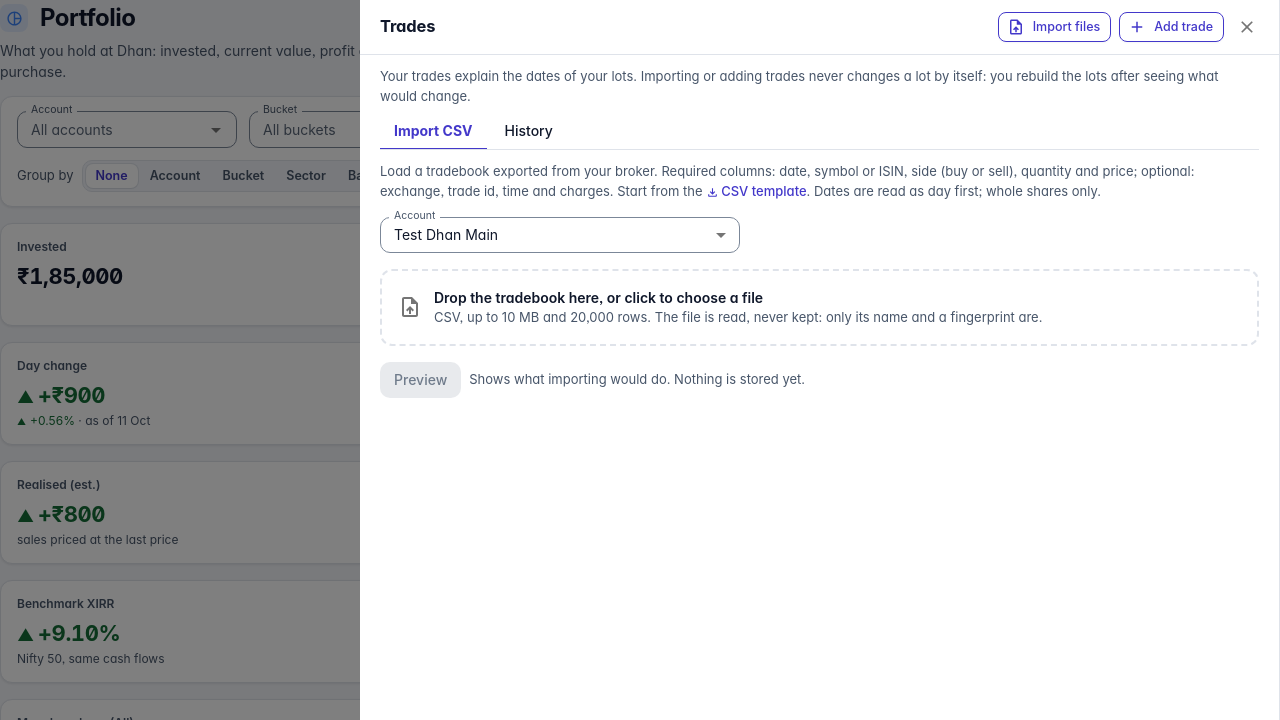
Test case: Add trade: the form › offers the account, the security, the side, the date, the time, the quantity, the price and the charges
Click the button "Add trade" at (1172, 27), box [1119, 12, 1224, 42]
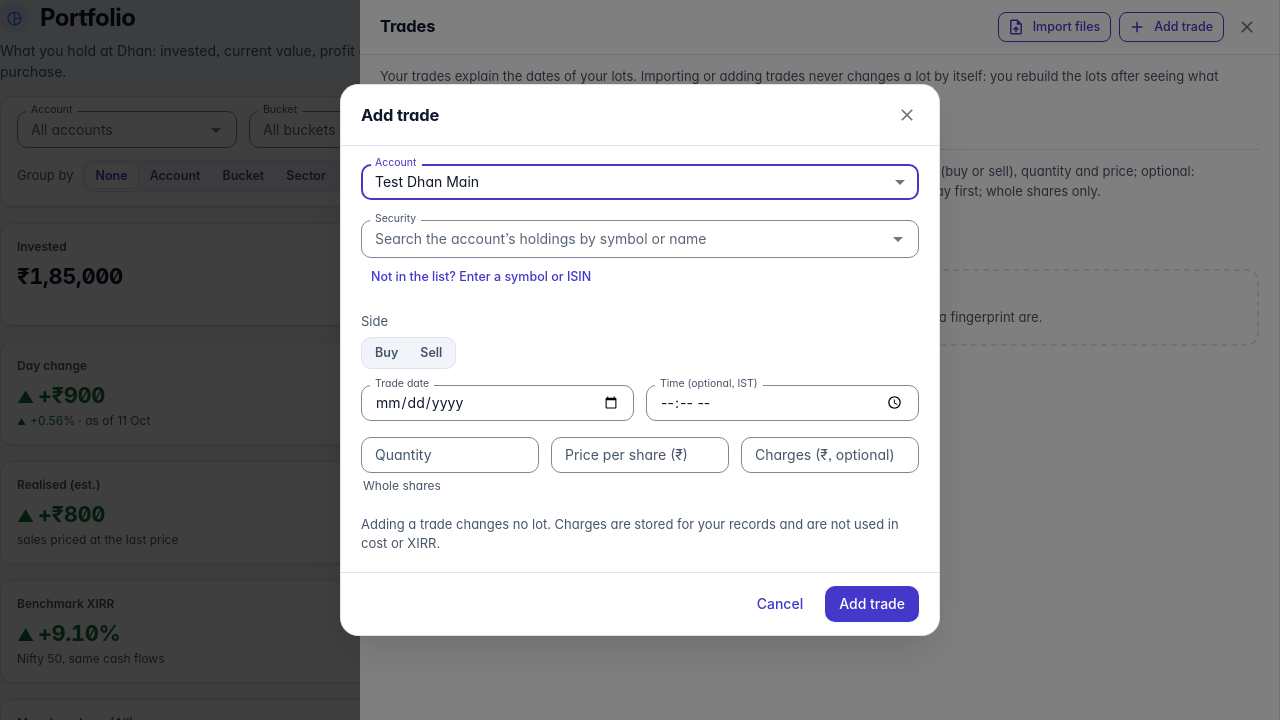
Check: the dropdown labelled "Account" shows "Test Dhan Main", box [361, 164, 919, 200]
Check: the dropdown labelled "Security" is shown, box [367, 226, 880, 252]
Check: the button "Buy" is shown, box [365, 341, 408, 364]
